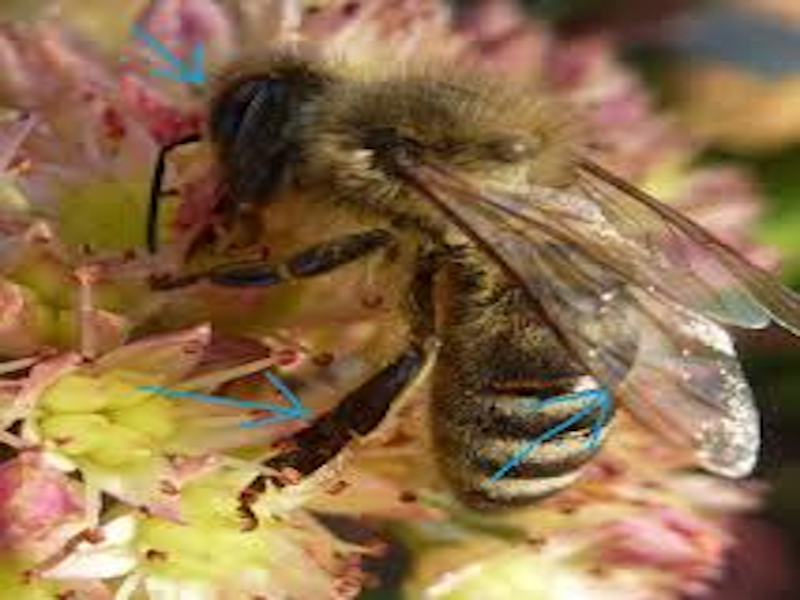abeja: (148, 27, 800, 519)
